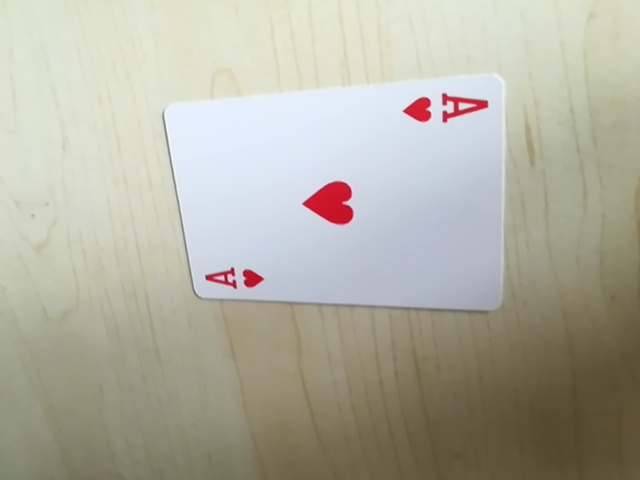hx a: (400, 86, 489, 134), (199, 260, 269, 295)
